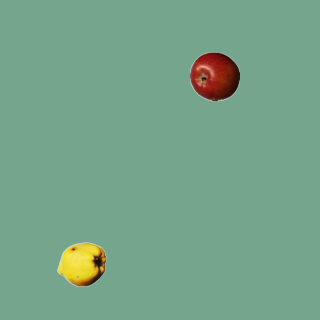Apple Braeburn: (189, 51, 239, 101)
Quince: (56, 239, 106, 289)
